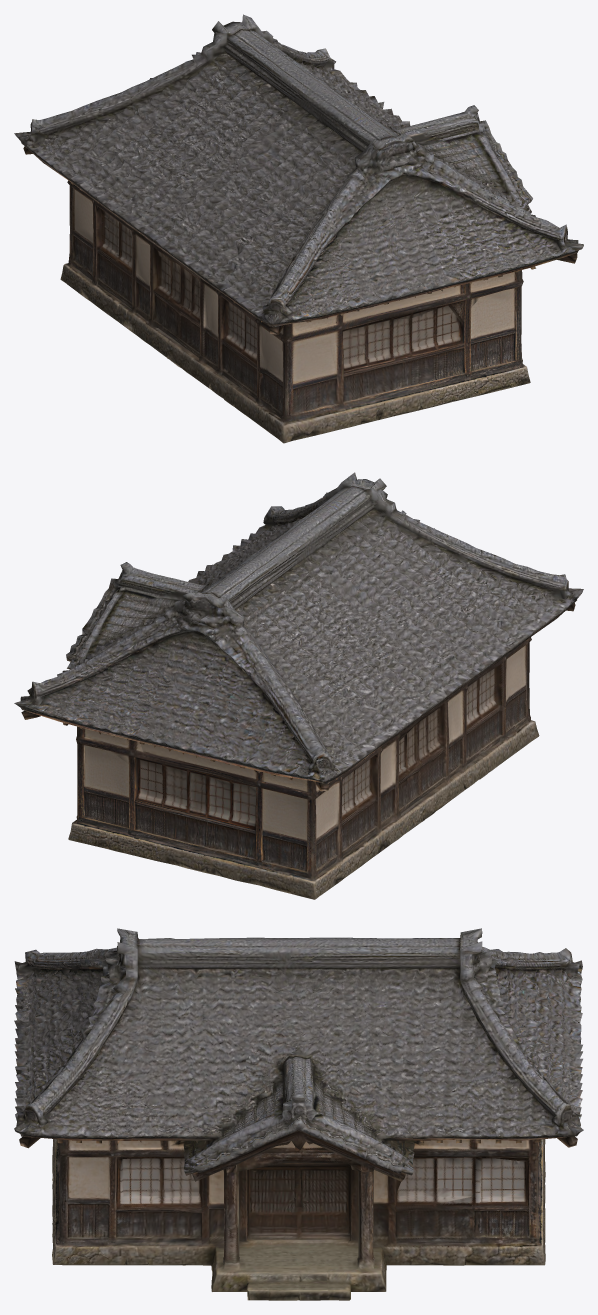
File: hall.glb
The picture shows the model from 3 angles, top to bottom: view 1: azimuth 30°, elevation 25°; view 2: azimuth 150°, elevation 25°; view 3: azimuth 270°, elevation 25°; orthographic projection. The views are drawn at different scales.
Visible parts, largest first — view 1: tripo_node_33ed8bad-2cbf-450c-a655-6026b67a2938; view 2: tripo_node_33ed8bad-2cbf-450c-a655-6026b67a2938; view 3: tripo_node_33ed8bad-2cbf-450c-a655-6026b67a2938.
Part boxes in pixels (x1,y1,x2,y2): tripo_node_33ed8bad-2cbf-450c-a655-6026b67a2938: (14, 14, 583, 443); tripo_node_33ed8bad-2cbf-450c-a655-6026b67a2938: (14, 472, 583, 899); tripo_node_33ed8bad-2cbf-450c-a655-6026b67a2938: (14, 928, 583, 1300).
Bounding box in the file's own units: 10.01 × 6.92 × 13.
Materials: 1 (1 with a texture image).
